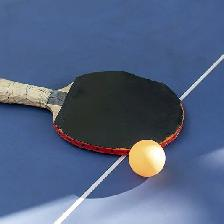YellowBall: (129, 139, 165, 176)
